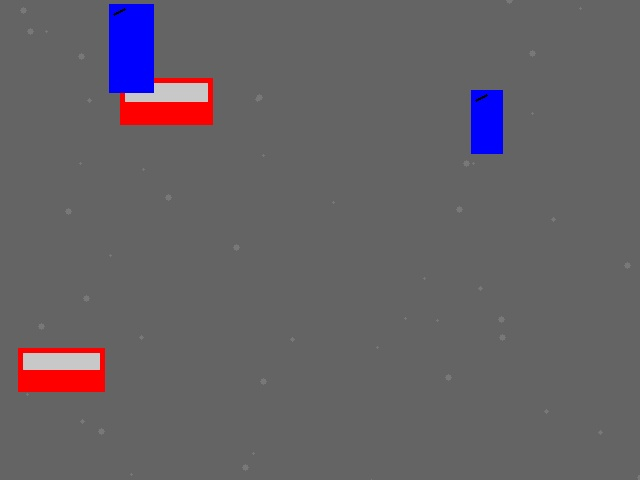car: (120, 78, 212, 124), (18, 348, 104, 391)
motorcycle: (109, 4, 153, 92), (471, 90, 502, 153)
